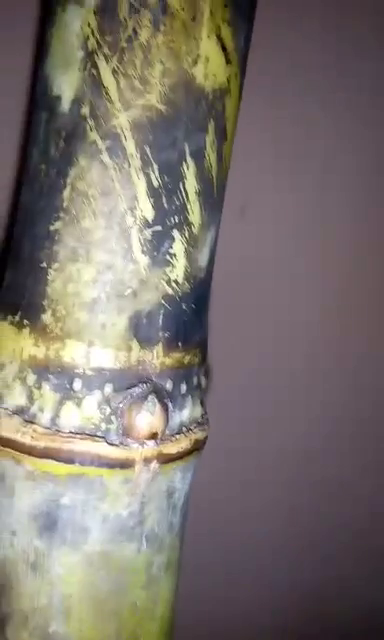cane eye: (120, 392, 172, 447)
